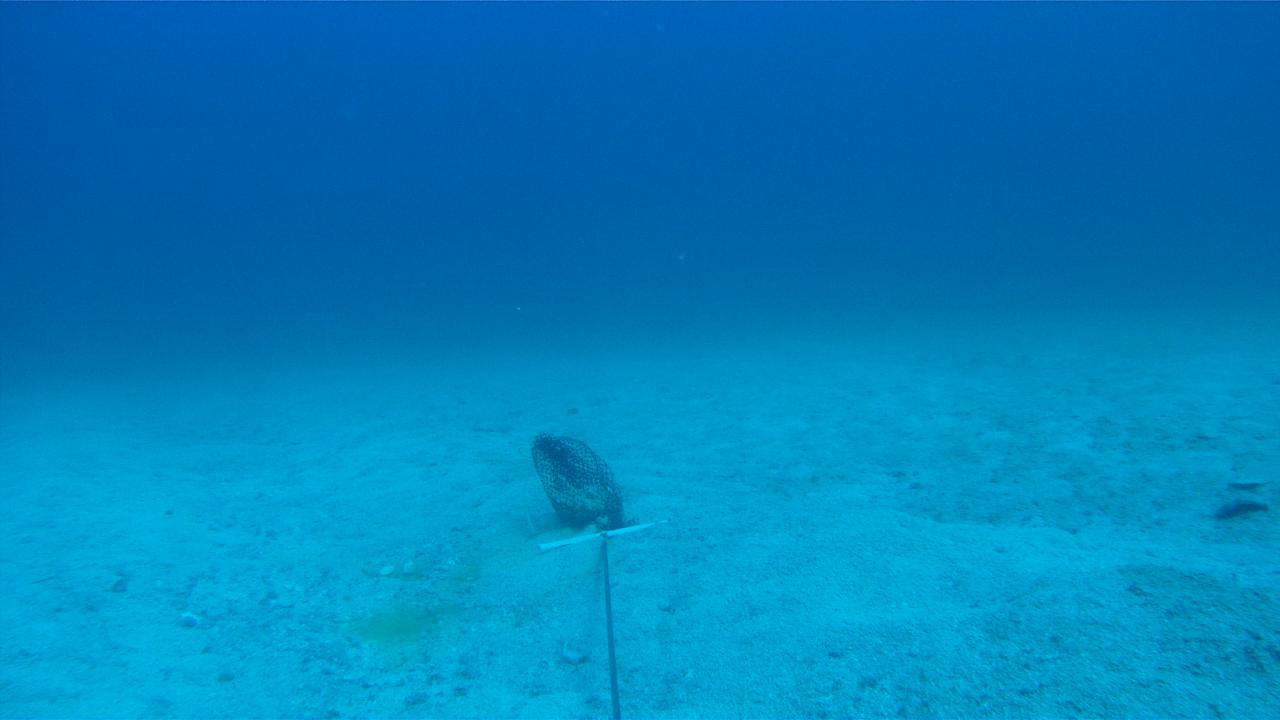bothus: (1220, 469, 1275, 503)
